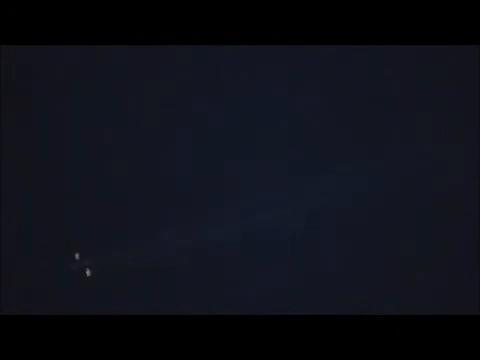Plane: (51, 243, 111, 285)
